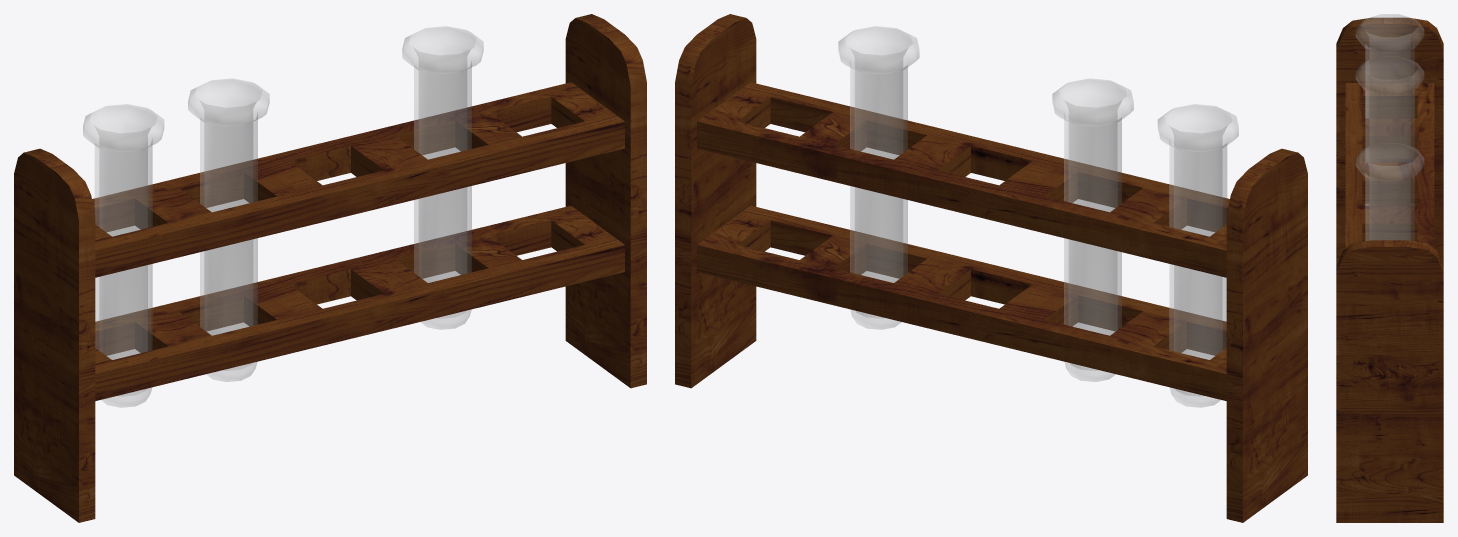
File: furniture11.fbx
3 renders of one model, left to right at view 1: azimuth 30°, elevation 25°; view 2: azimuth 150°, elevation 25°; view 3: azimuth 270°, elevation 25°, orthographic. The views are drawn at different scales.
Parts seen in each view (by area): view 1: Mesh; view 2: Mesh; view 3: Mesh.
Boxes of the visible parts, box(x1,y1,x2,y2) form: Mesh: box(14, 14, 646, 522); Mesh: box(675, 14, 1307, 522); Mesh: box(1336, 14, 1443, 522).
Size of the model in its own units: 62.6 by 38.09 by 12.4.
